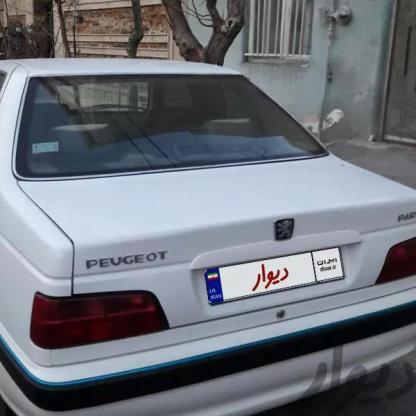Car: (0, 52, 416, 416)
